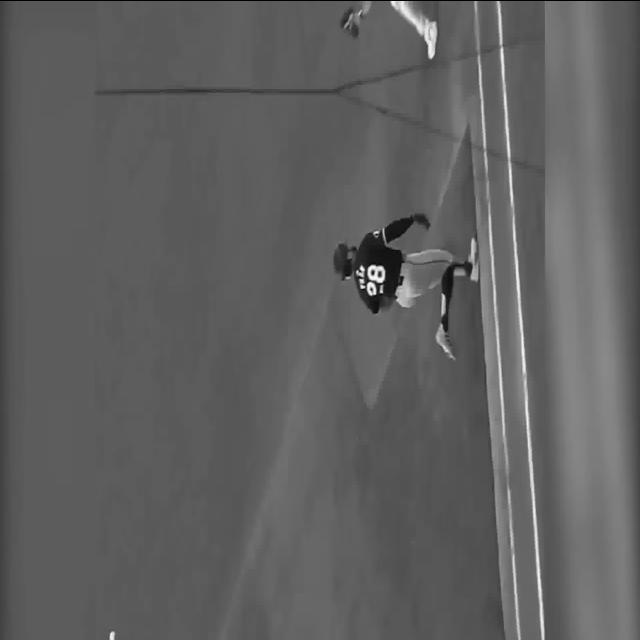baseball: (108, 630, 115, 640)
baseball_glove: (339, 8, 362, 38)
shoe: (436, 322, 456, 360), (468, 236, 479, 282), (426, 20, 438, 60)
